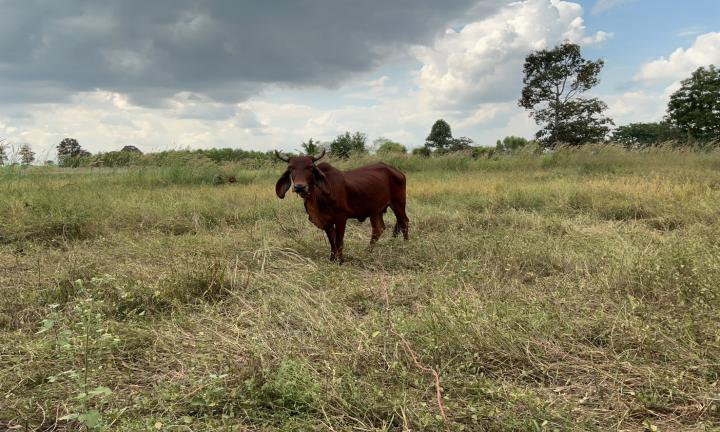Brahman: (275, 149, 408, 262)
